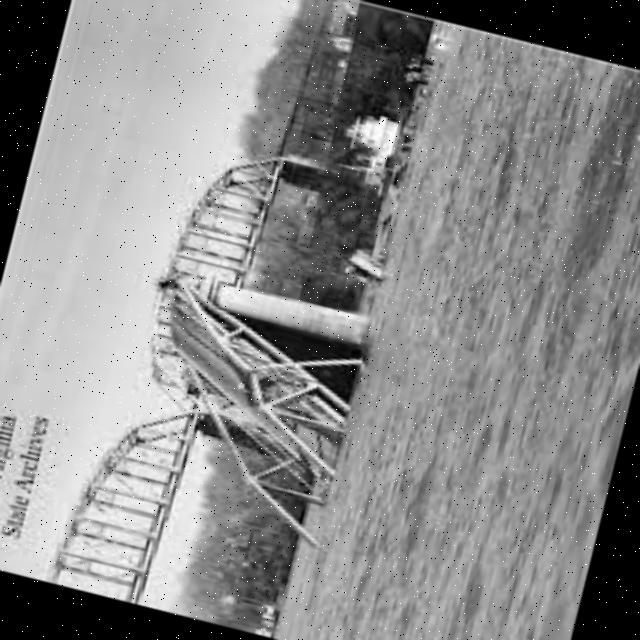bridge collapse: (0, 0, 501, 640)
